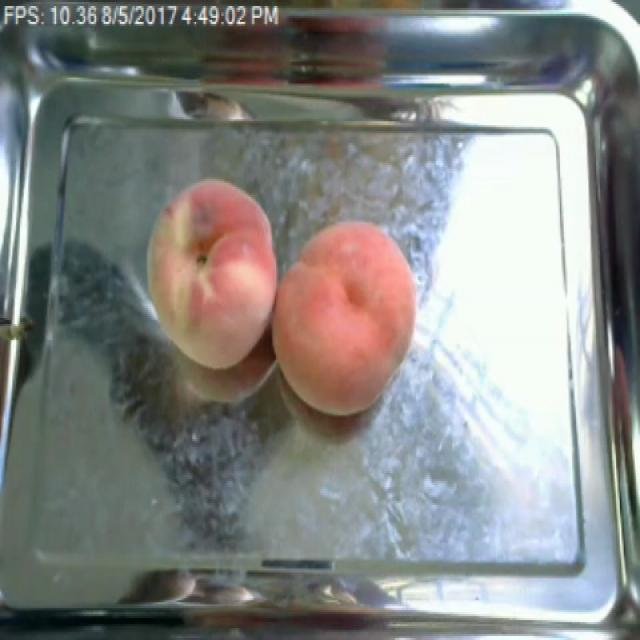Fruit: (266, 213, 426, 425), (138, 171, 286, 380)
